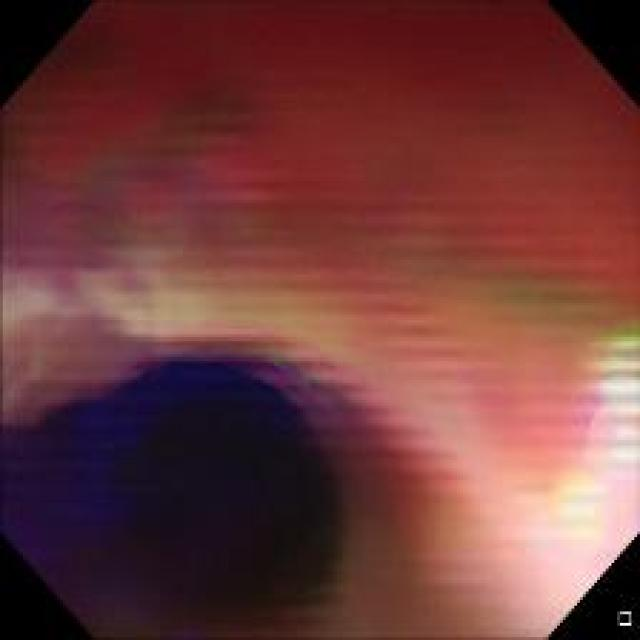color misalignment: (6, 74, 631, 631)
contrast: (14, 341, 385, 624)
